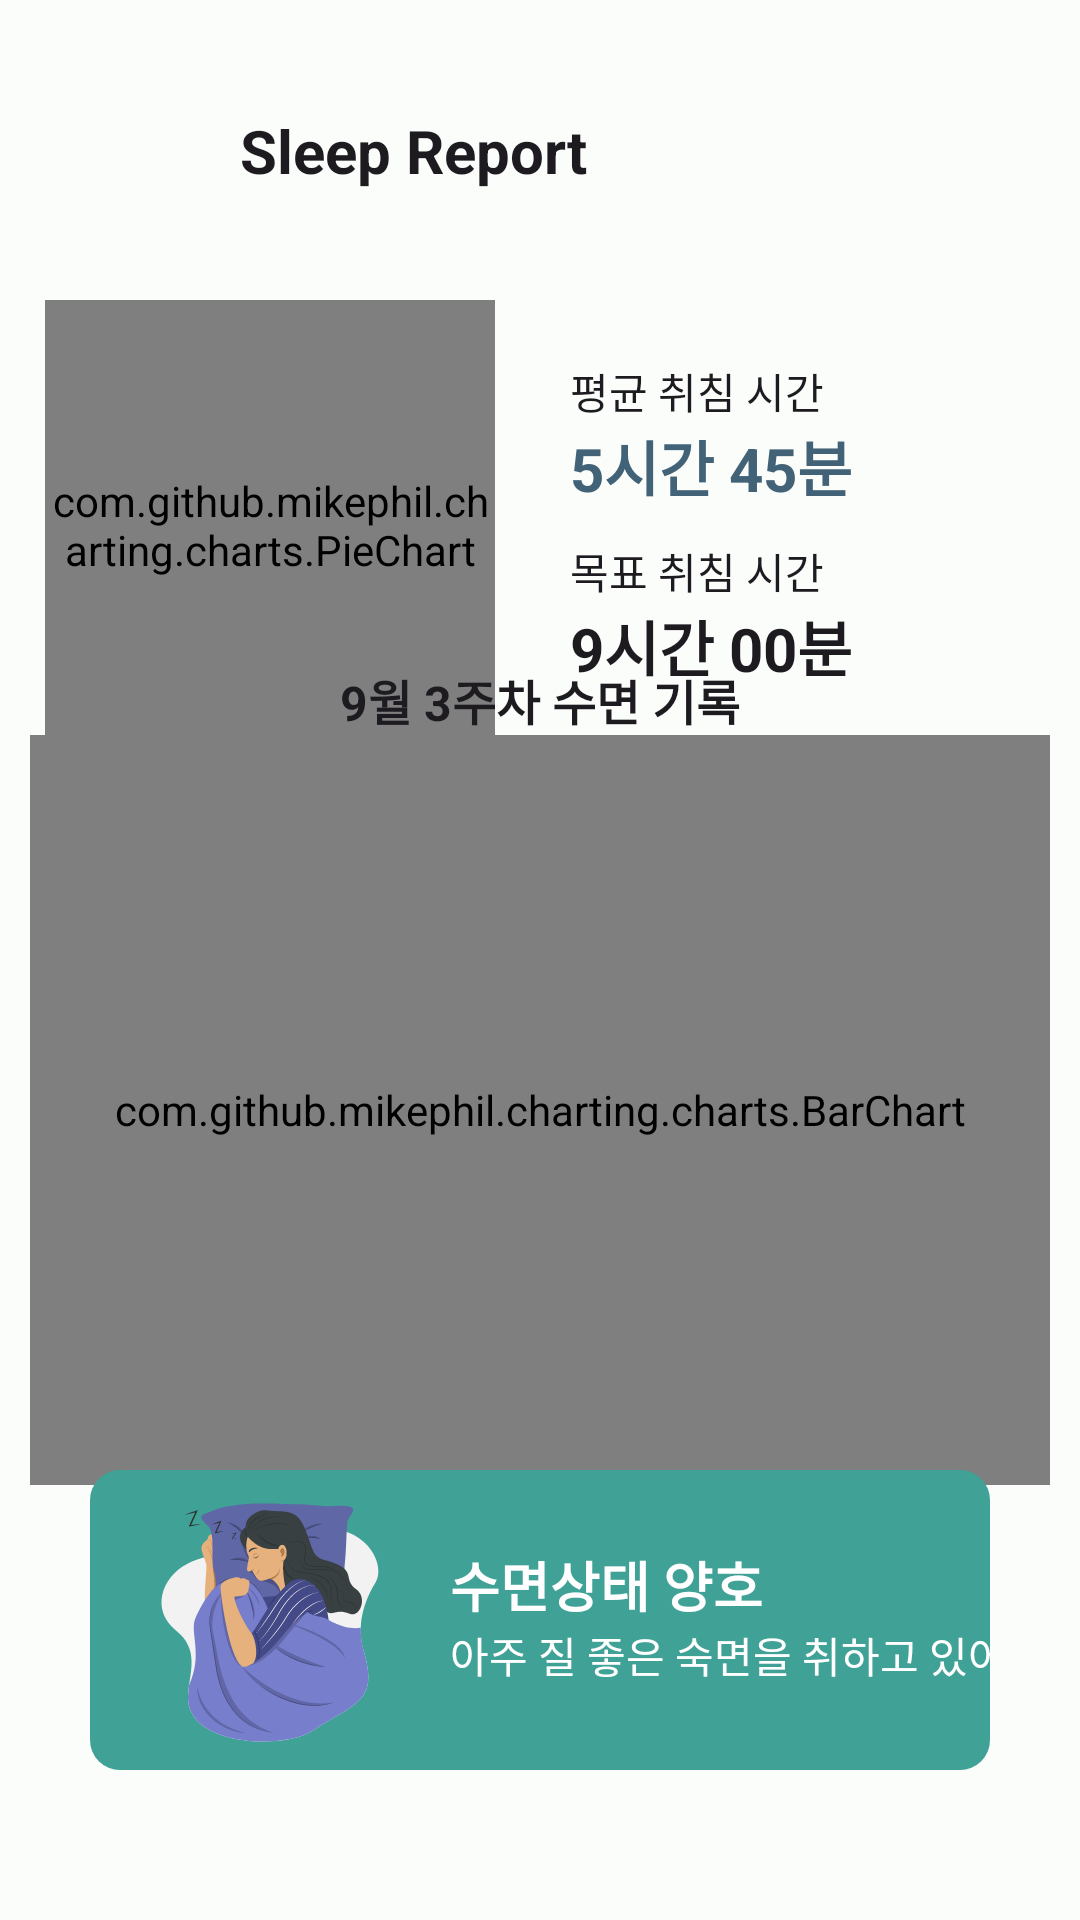

Icons on this 1080×1920 Android screen, each with the point to tap as point (x, y):
sleep: point (270, 1622)
